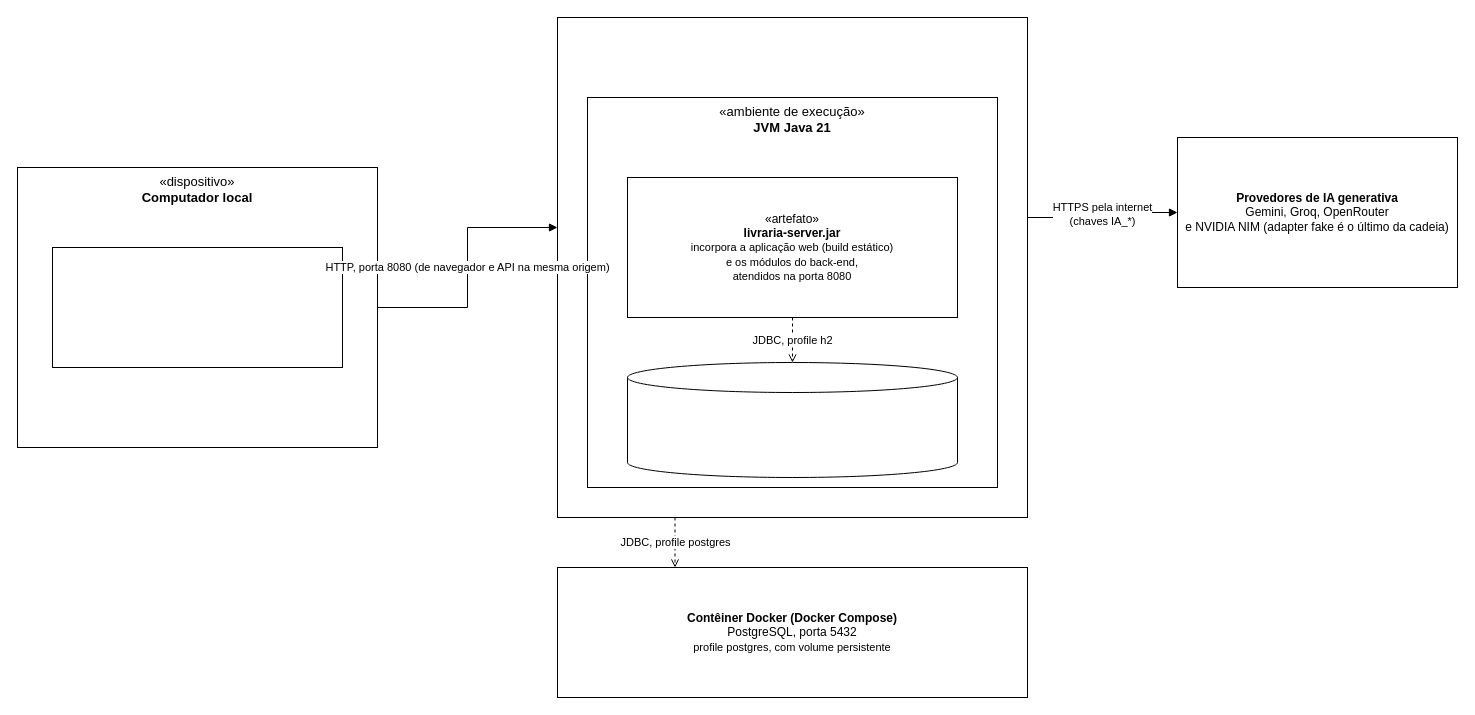
This 1475x715 diagram has some shape labels left out. Here are the shapes that lost their labels. From the top down, the box of each, then its label:
(556, 16, 1028, 518): «dispositivo» Servidor local
(52, 246, 342, 368): Navegador web Chrome, Firefox, Edge... Visitante, Cliente ou Administrador
(626, 362, 958, 478): Banco H2 em memória profile h2 (padrão) schema do ORM e dados pelo seed
